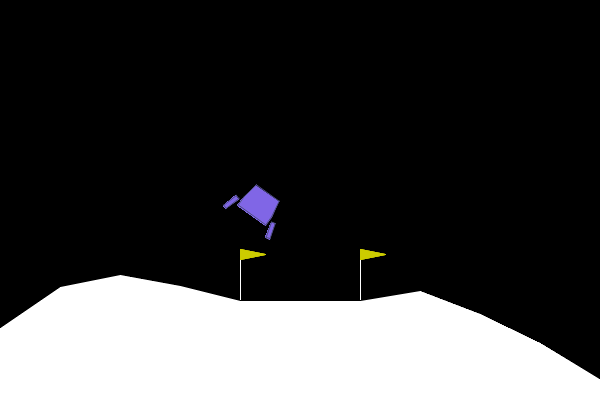lander: (221, 174, 293, 242)
